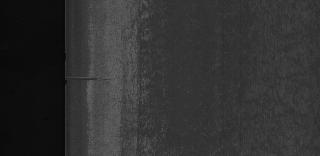scratches: (66, 74, 120, 86)
silk spot: (138, 5, 312, 153)
